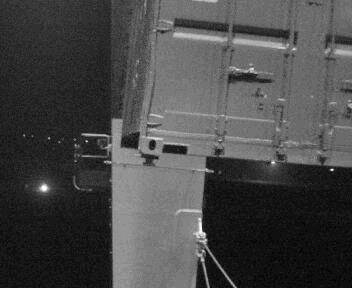twist_lock_1: (134, 151, 162, 172)
